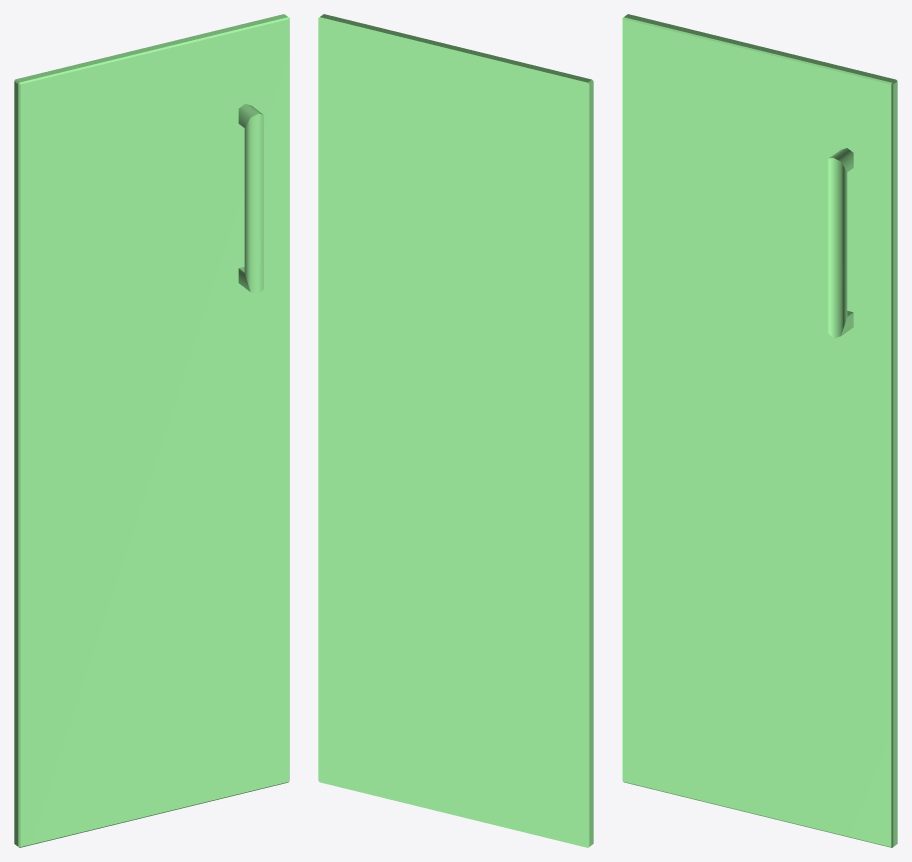
The model's file is RFAIPP_Kitchen_Cabinet_Door_Down_Left.FBX.
3 views of the same model, side by side, from view 1: azimuth 30°, elevation 25°; view 2: azimuth 150°, elevation 25°; view 3: azimuth 330°, elevation 25° (orthographic).
Visible parts, largest first — view 1: RFAIPP_Kitchen_Cabinet_Door_Down_Left; view 2: RFAIPP_Kitchen_Cabinet_Door_Down_Left; view 3: RFAIPP_Kitchen_Cabinet_Door_Down_Left.
Boxes of the visible parts, x1=… form: RFAIPP_Kitchen_Cabinet_Door_Down_Left: x1=14, y1=14, x2=289, y2=847; RFAIPP_Kitchen_Cabinet_Door_Down_Left: x1=318, y1=14, x2=593, y2=847; RFAIPP_Kitchen_Cabinet_Door_Down_Left: x1=622, y1=14, x2=897, y2=847.
Size of the model in its own units: 0.2998 by 0.8086 by 0.036.
